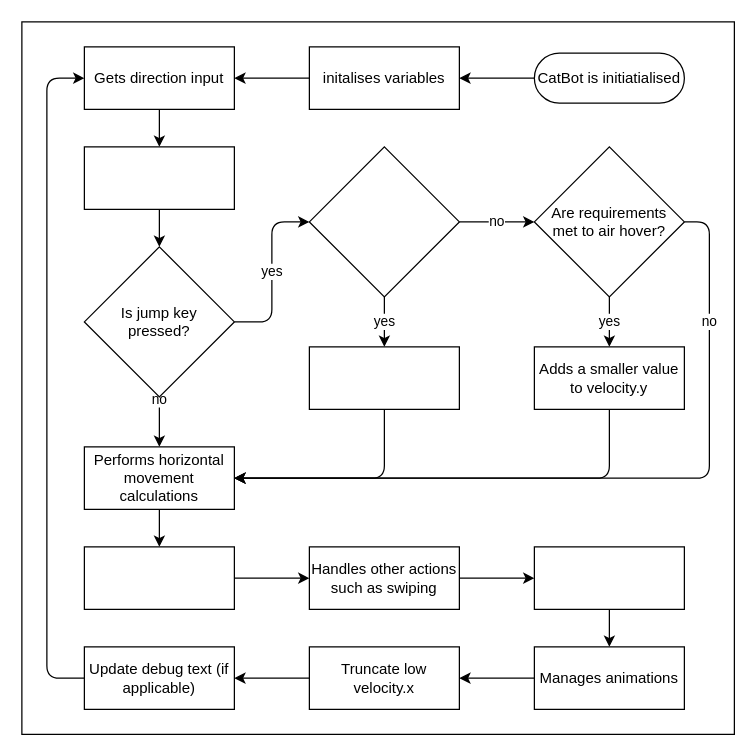
Image size: 756x756. Some labels were removed from this diagram. Each missing label, with the centre of its shape:
Handles running based on direction input: the point at 158,577
Is catBot grounded?: the point at 383,221
Jumps (adds a constant to velocity.y): the point at 383,377
move_and_slide(): the point at 608,577
Performs vertical physics calculations: the point at 158,177
